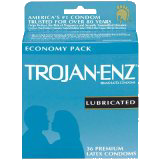grozi_102: (22, 0, 138, 158)
